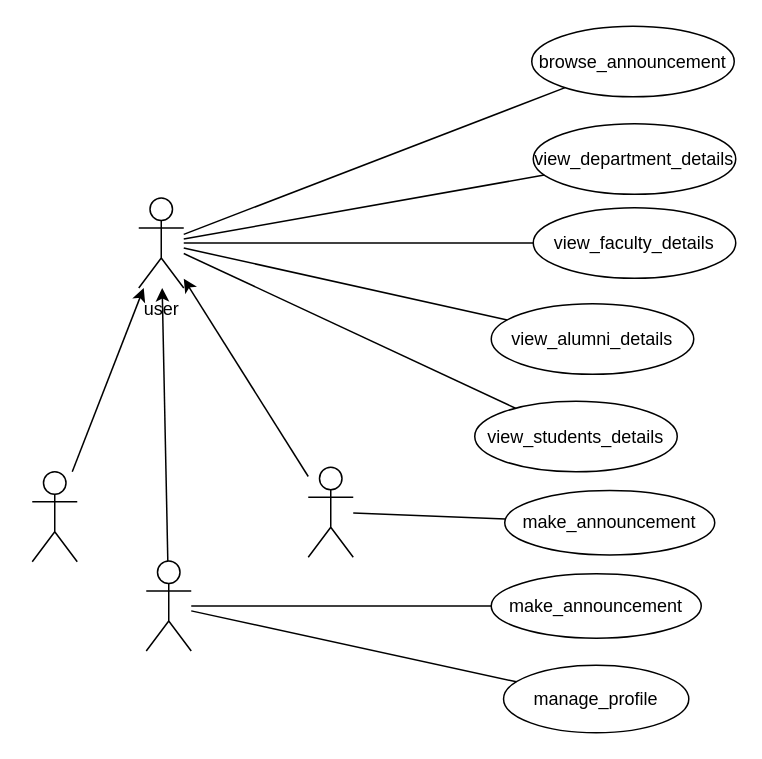
Some shapes in this 762 by 759 pixel diagram are drawn without their labels. The centre of each missing label's shape, as x and y in pixels:
dept_admin: pixel 330 511
faculty: pixel 168 605
student: pixel 54 516
